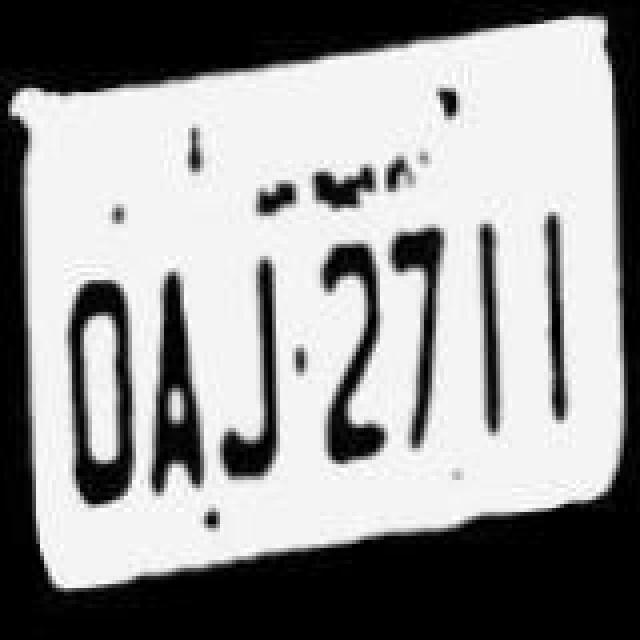1: (526, 190, 582, 466), (462, 198, 518, 458)
2: (306, 232, 386, 484)
7: (382, 224, 462, 480)
A: (138, 240, 210, 504)
J: (208, 230, 292, 498)
O: (58, 254, 142, 522)
